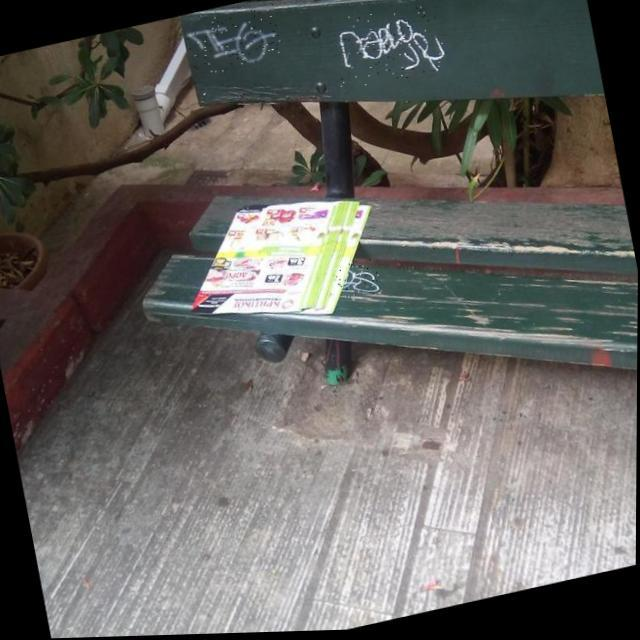-: (327, 0, 451, 95), (184, 6, 284, 78), (334, 259, 384, 306)
